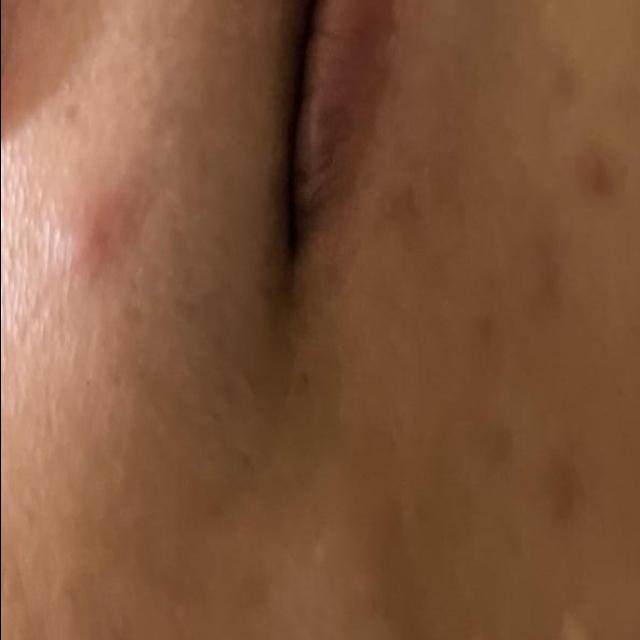papule: (29, 160, 139, 322)
